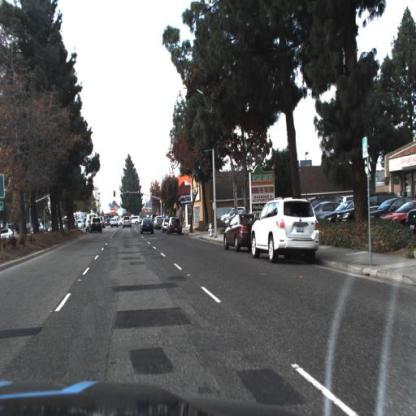car: (248, 195, 325, 265), (336, 193, 397, 224), (222, 210, 256, 255), (138, 217, 158, 238), (168, 215, 184, 238), (88, 216, 103, 235), (121, 214, 135, 231), (162, 215, 171, 237), (110, 219, 121, 228)
